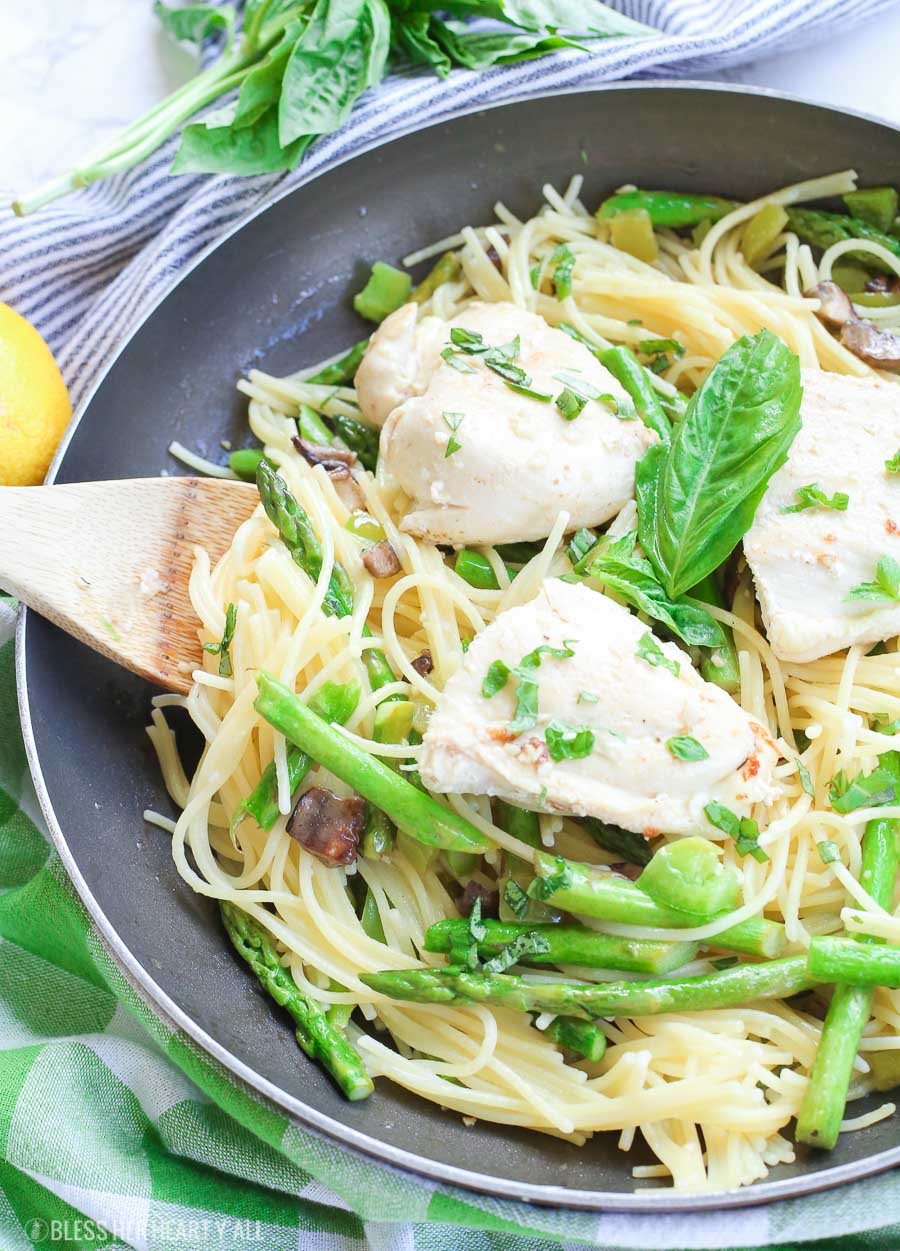boiled peas: (467, 881, 778, 1005)
plain spaghetti: (207, 518, 483, 1162)
